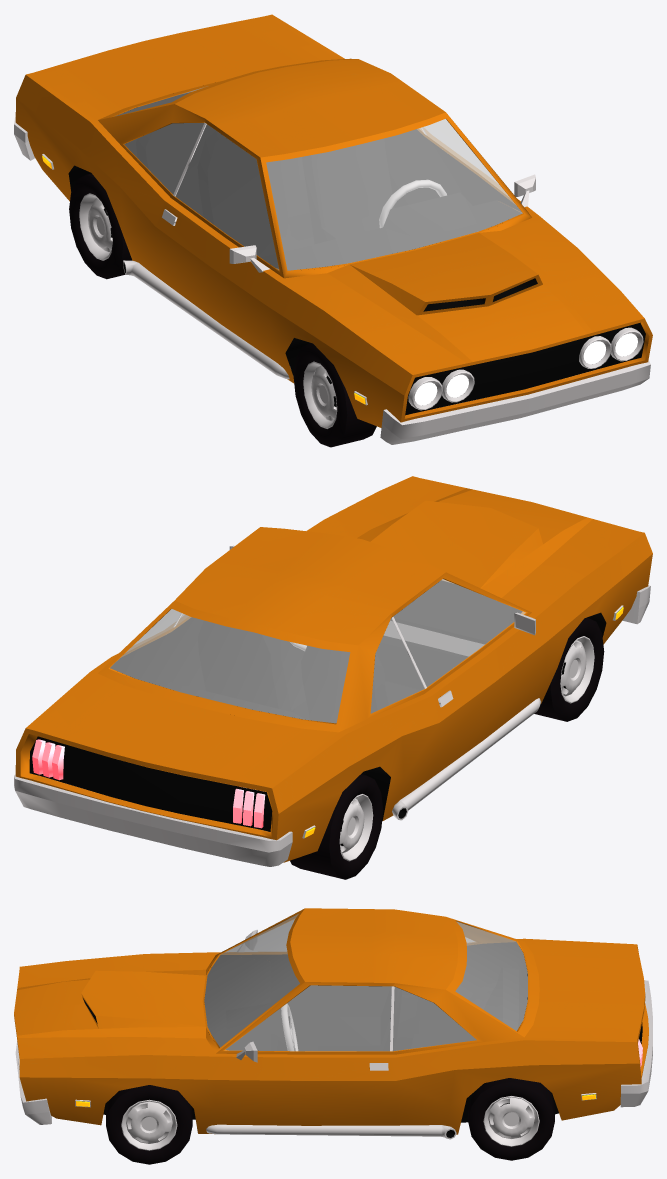
Rendered from car_orange.glb.
3 renders of one model, top to bottom at view 1: azimuth 30°, elevation 25°; view 2: azimuth 150°, elevation 25°; view 3: azimuth 270°, elevation 25°, orthographic. The views are drawn at different scales.
Parts seen in each view (by area): view 1: Object_4, Object_9, Object_6, Object_5, Object_8; view 2: Object_4, Object_9, Object_6, Object_5, Object_7; view 3: Object_4, Object_9, Object_6, Object_5.
Part boxes in pixels (bbox=[...]): Object_4: bbox=[15, 14, 652, 427]; Object_9: bbox=[68, 92, 645, 447]; Object_6: bbox=[117, 86, 522, 270]; Object_5: bbox=[14, 117, 650, 444]; Object_8: bbox=[414, 333, 637, 405]; Object_4: bbox=[15, 476, 652, 862]; Object_9: bbox=[29, 580, 606, 879]; Object_6: bbox=[110, 579, 525, 723]; Object_5: bbox=[14, 545, 650, 866]; Object_7: bbox=[32, 739, 265, 828]; Object_4: bbox=[14, 908, 648, 1134]; Object_9: bbox=[83, 942, 642, 1164]; Object_6: bbox=[204, 914, 527, 1051]; Object_5: bbox=[15, 929, 652, 1150].
Size of the model in its own units: 5.46 by 3.6 by 12.16.
Materials: 7 (7 with a texture image).
